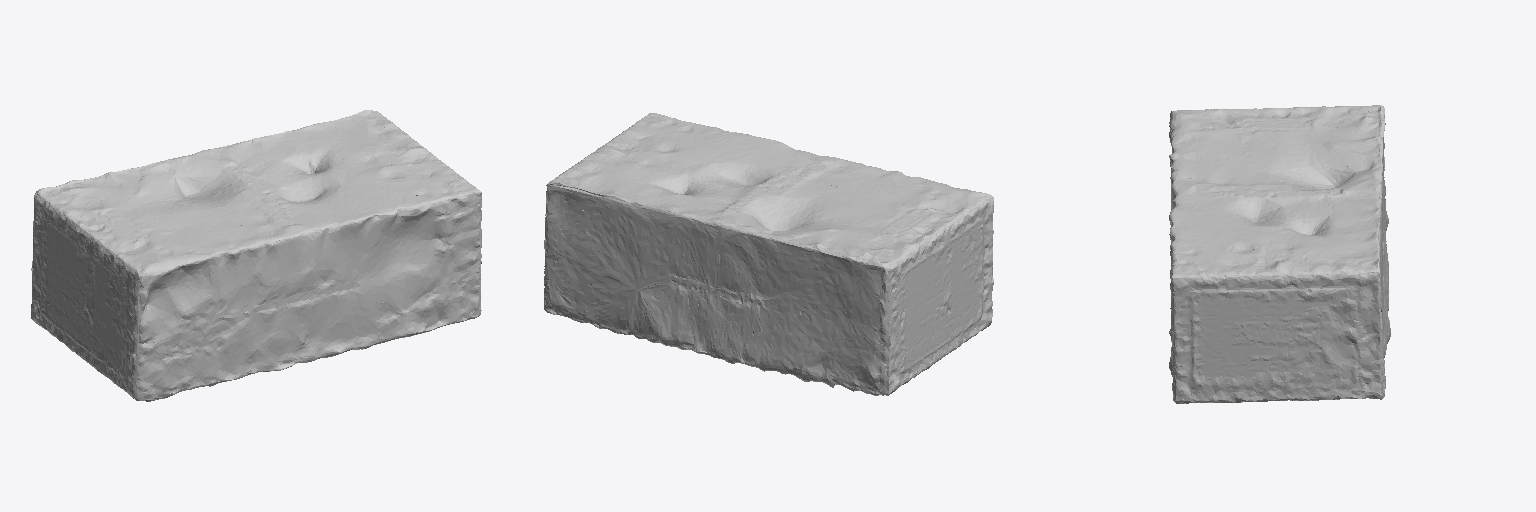
The model's file is poly_deci.obj.
3 renders of one model, left to right at view 1: azimuth 30°, elevation 25°; view 2: azimuth 150°, elevation 25°; view 3: azimuth 270°, elevation 25°, orthographic.
Size of the model in its own units: 0.1931 by 0.0753 by 0.1061.